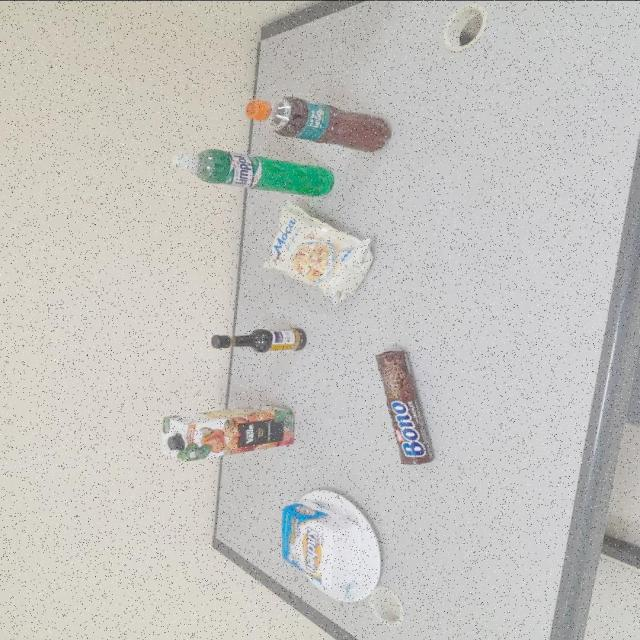Cleaner: (173, 148, 337, 196)
Cookies: (377, 348, 437, 464)
CornFlakes: (266, 205, 376, 304)
EnglishSauce: (211, 327, 310, 350)
IceTea: (248, 95, 394, 152)
